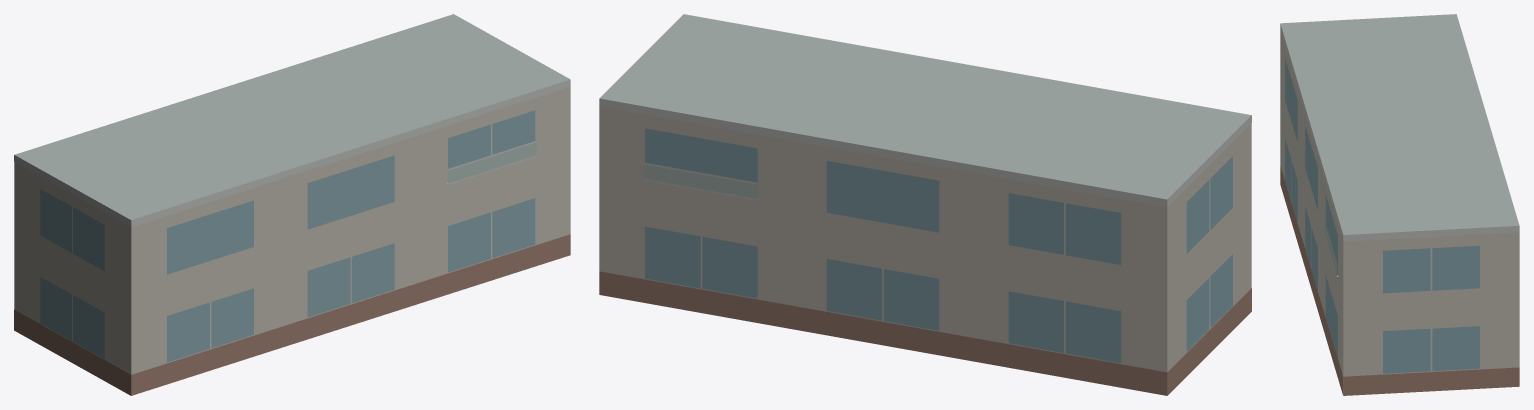
The model's file is survey-upis-32807608.glb.
3 views of the same model, side by side, from view 1: azimuth 30°, elevation 25°; view 2: azimuth 150°, elevation 25°; view 3: azimuth 270°, elevation 25° (orthographic). The views are drawn at different scales.
Parts seen in each view (by area): view 1: survey-upis-32807608.tmp; view 2: survey-upis-32807608.tmp; view 3: survey-upis-32807608.tmp.
Boxes of the visible parts, x1=… form: survey-upis-32807608.tmp: x1=14, y1=14, x2=570, y2=395; survey-upis-32807608.tmp: x1=599, y1=14, x2=1251, y2=395; survey-upis-32807608.tmp: x1=1280, y1=14, x2=1519, y2=395.
Size of the model in its own units: 17.98 by 6.1 by 8.23.
